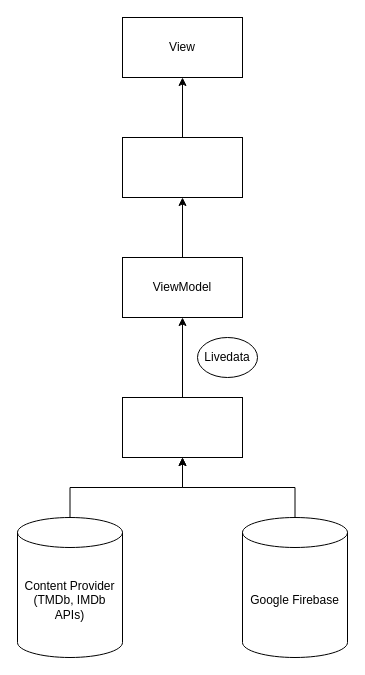
Some shapes in this 365 by 675 pixel diagram are drawn without their labels. The centre of each missing label's shape, as x and y in pixels:
Activity/Fragment: [182,167]
Reposity: [182,427]
